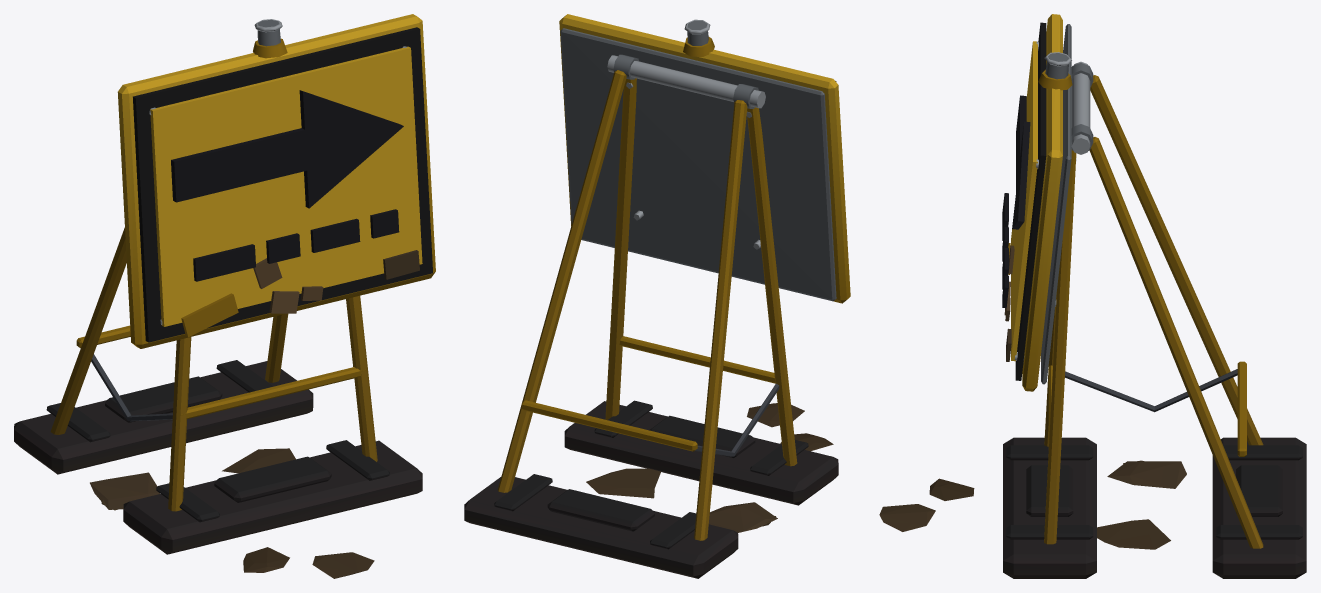
File: diversion-sign.glb
3 views of the same model, side by side, from view 1: azimuth 30°, elevation 25°; view 2: azimuth 150°, elevation 25°; view 3: azimuth 270°, elevation 25° (orthographic). The views are drawn at different scales.
Parts seen in each view (by area): view 1: diversion_sign; view 2: diversion_sign; view 3: diversion_sign.
Boxes of the visible parts, x1,y1,x2,y2 form: diversion_sign: [14, 14, 435, 578]; diversion_sign: [464, 14, 850, 578]; diversion_sign: [879, 14, 1306, 578].
Size of the model in its own units: 0.92 by 1.42 by 1.18.
